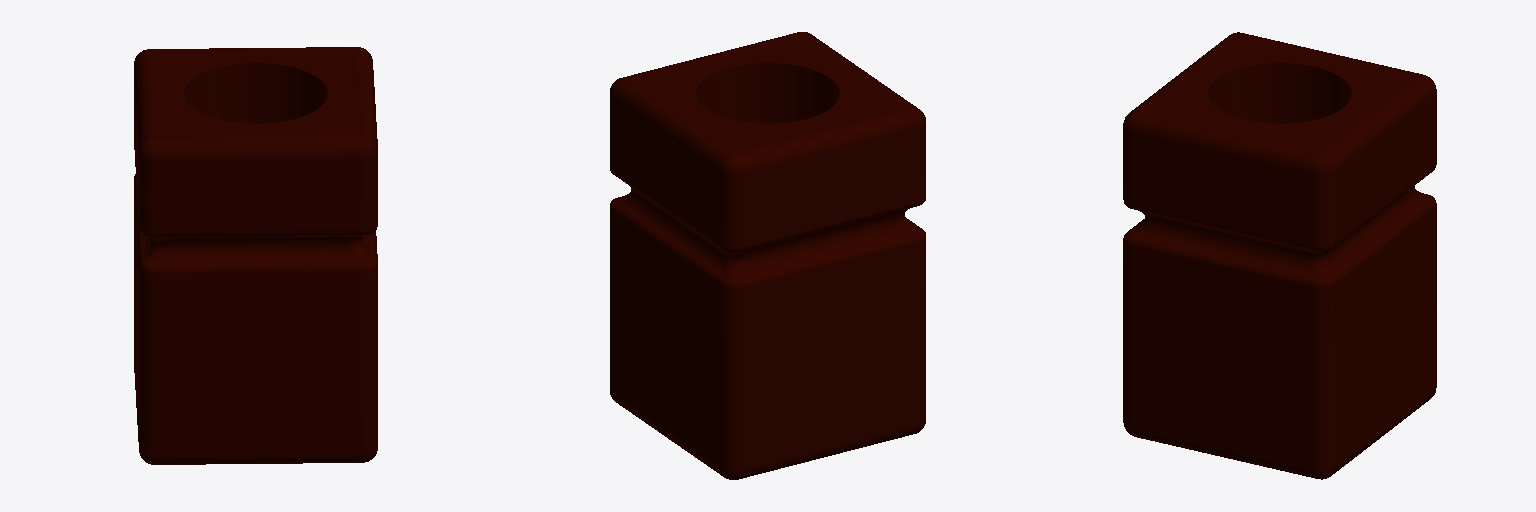
File: petit-carre-trou-marron.obj
3 renders of one model, left to right at view 1: azimuth 30°, elevation 25°; view 2: azimuth 150°, elevation 25°; view 3: azimuth 270°, elevation 25°, orthographic.
Parts seen in each view (by area): view 1: quarto-pieces.015; view 2: quarto-pieces.015; view 3: quarto-pieces.015.
Boxes of the visible parts, x1=… form: quarto-pieces.015: x1=134, y1=47, x2=377, y2=464; quarto-pieces.015: x1=610, y1=32, x2=925, y2=479; quarto-pieces.015: x1=1123, y1=32, x2=1436, y2=479.
Size of the model in its own units: 39.27 by 45 by 39.27.